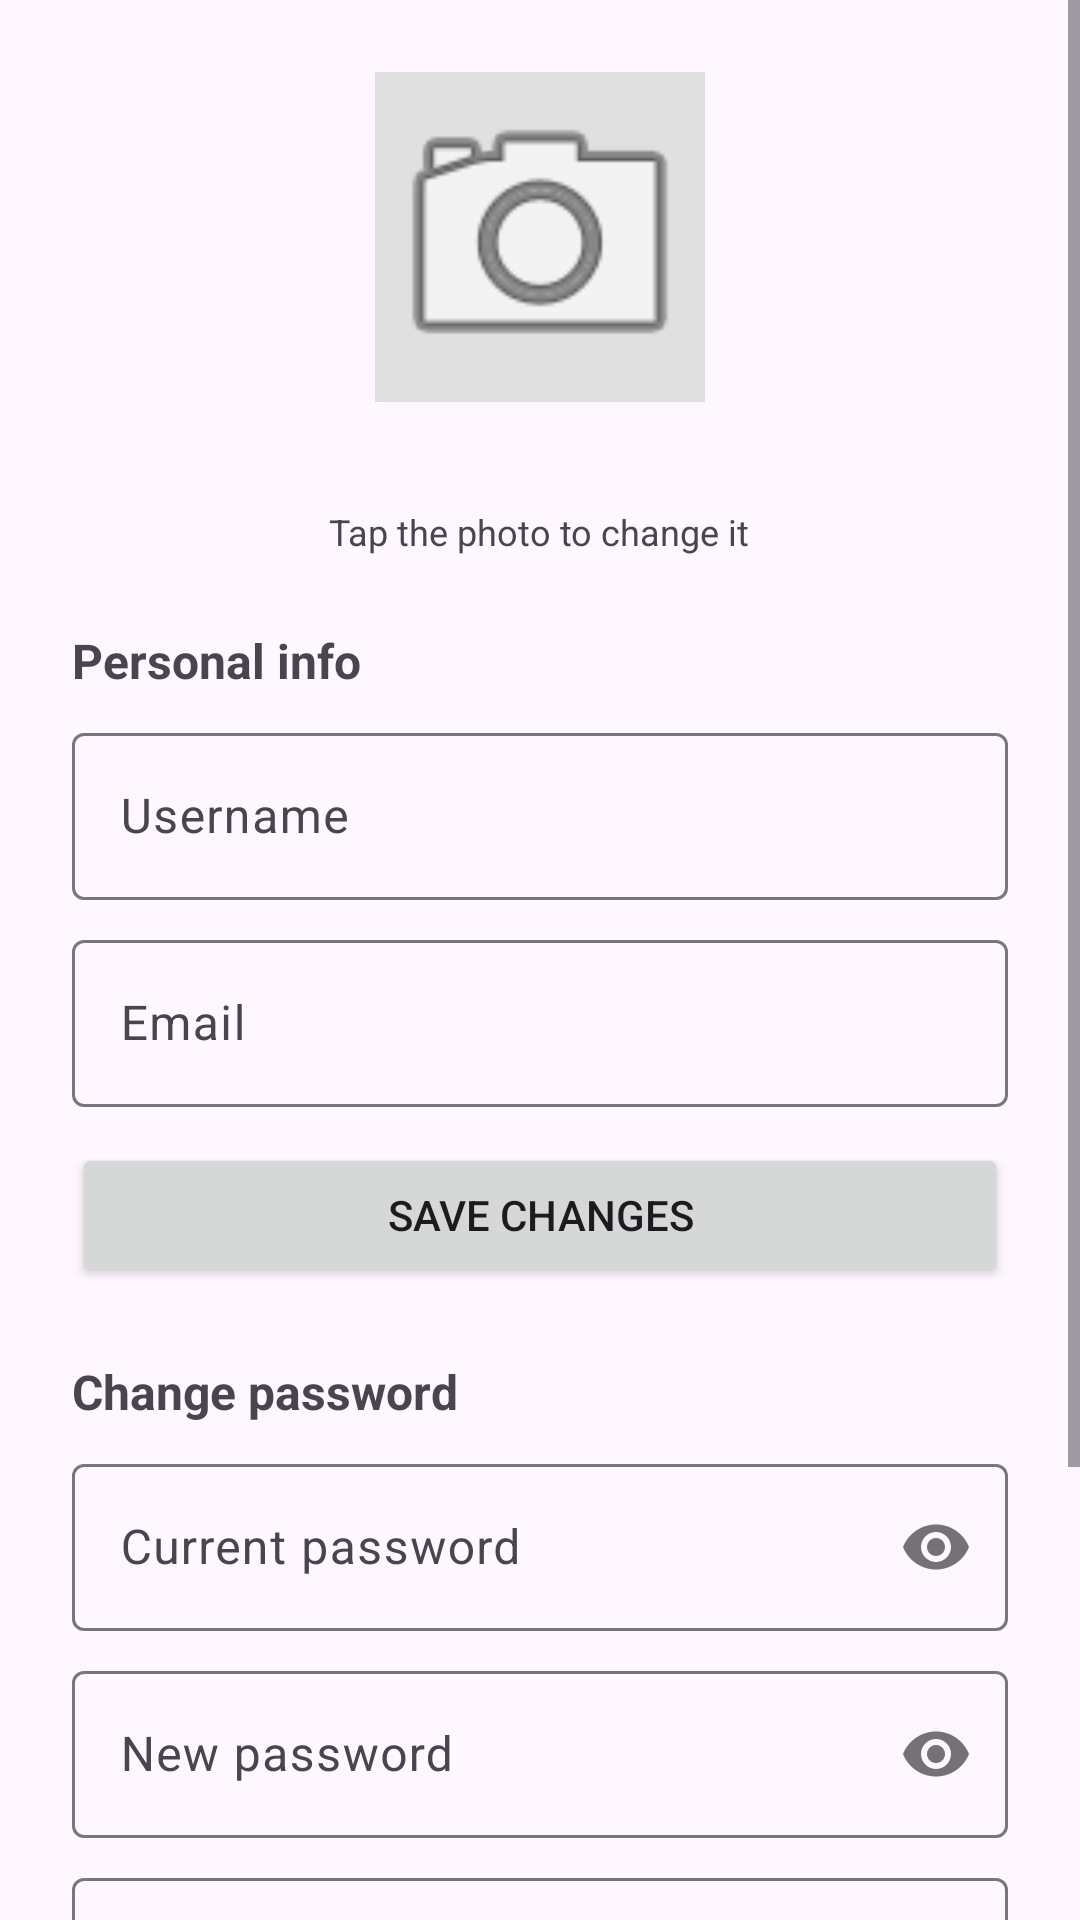

Icon bounding boxes for this 1080w x 1920h phone screenshot, format [left=x1, top=y1, right=x2, bottom=y2]:
camera: [left=375, top=72, right=705, bottom=402]
